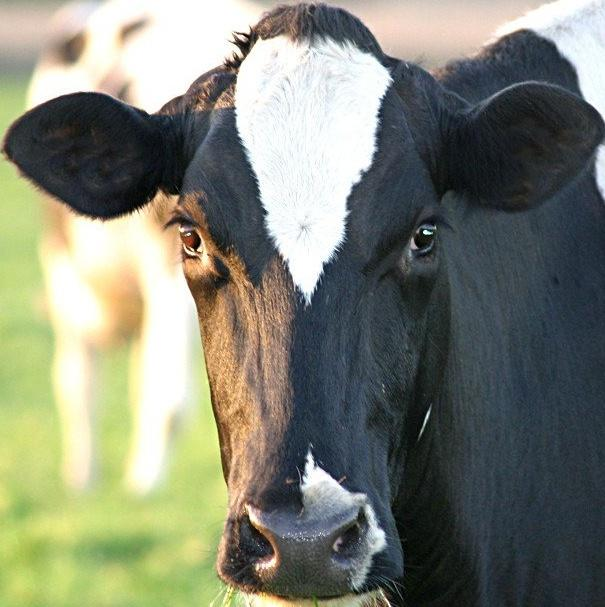muzzles: (208, 494, 409, 599)
